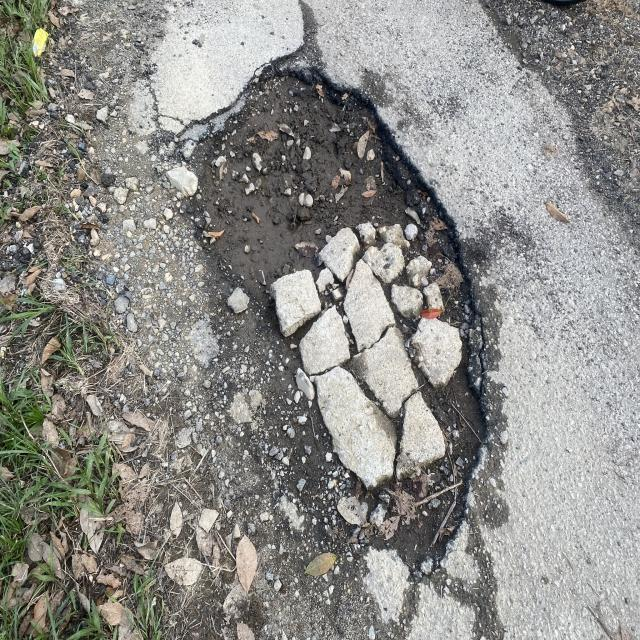Pothole: (183, 49, 540, 640)
